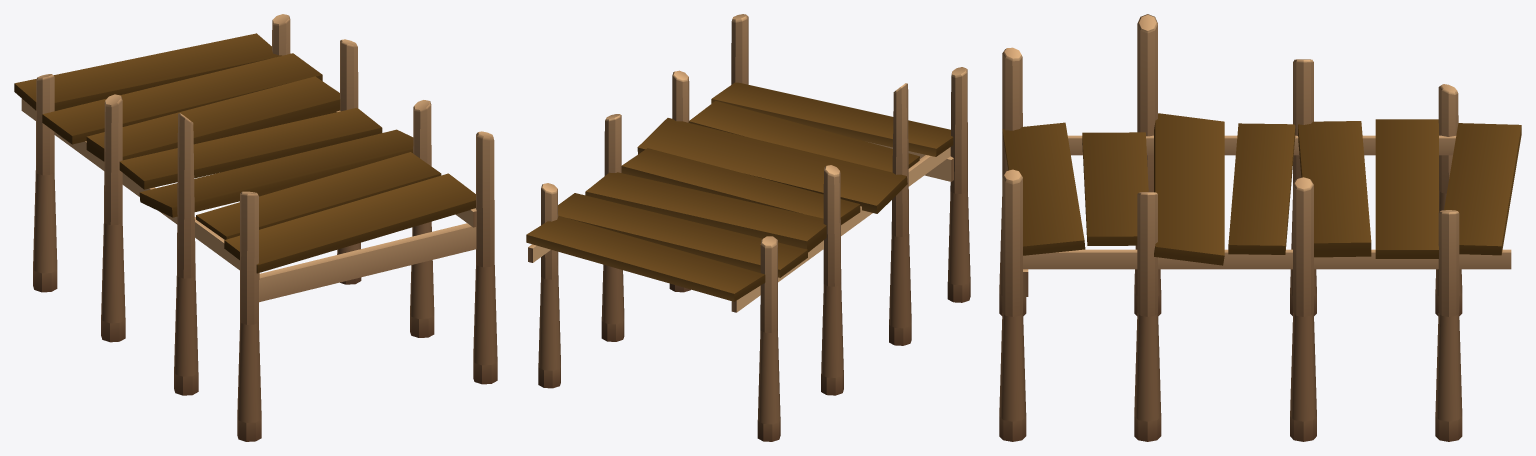
File: M_Dock.fbx
The picture shows the model from 3 angles, left to right: view 1: azimuth 30°, elevation 25°; view 2: azimuth 150°, elevation 25°; view 3: azimuth 270°, elevation 25°; orthographic projection. The views are drawn at different scales.
Parts seen in each view (by area): view 1: Dock; view 2: Dock; view 3: Dock.
Part boxes in pixels (x1=…): Dock: x1=14, y1=14, x2=497, y2=441; Dock: x1=526, y1=14, x2=970, y2=441; Dock: x1=999, y1=14, x2=1521, y2=441.
Bounding box in the file's own units: 37.41 × 38.48 × 61.51.
